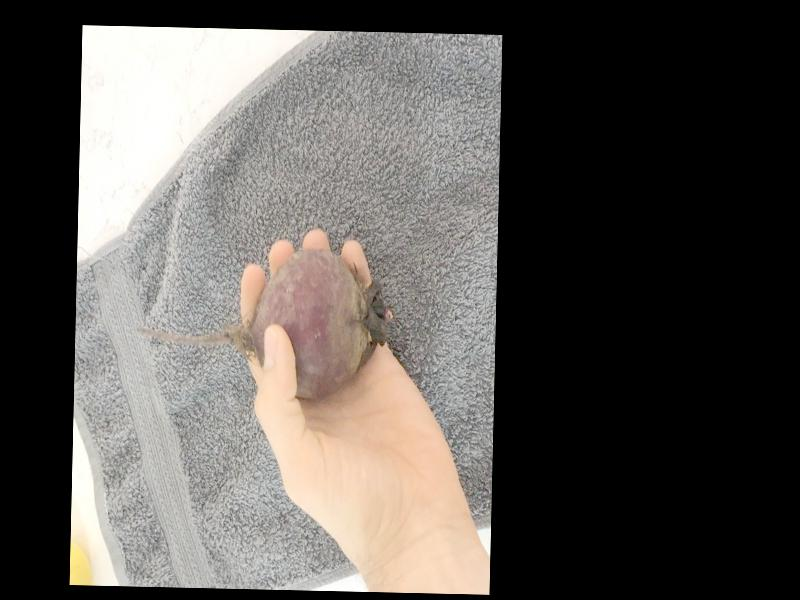Beet: (135, 243, 388, 402)
